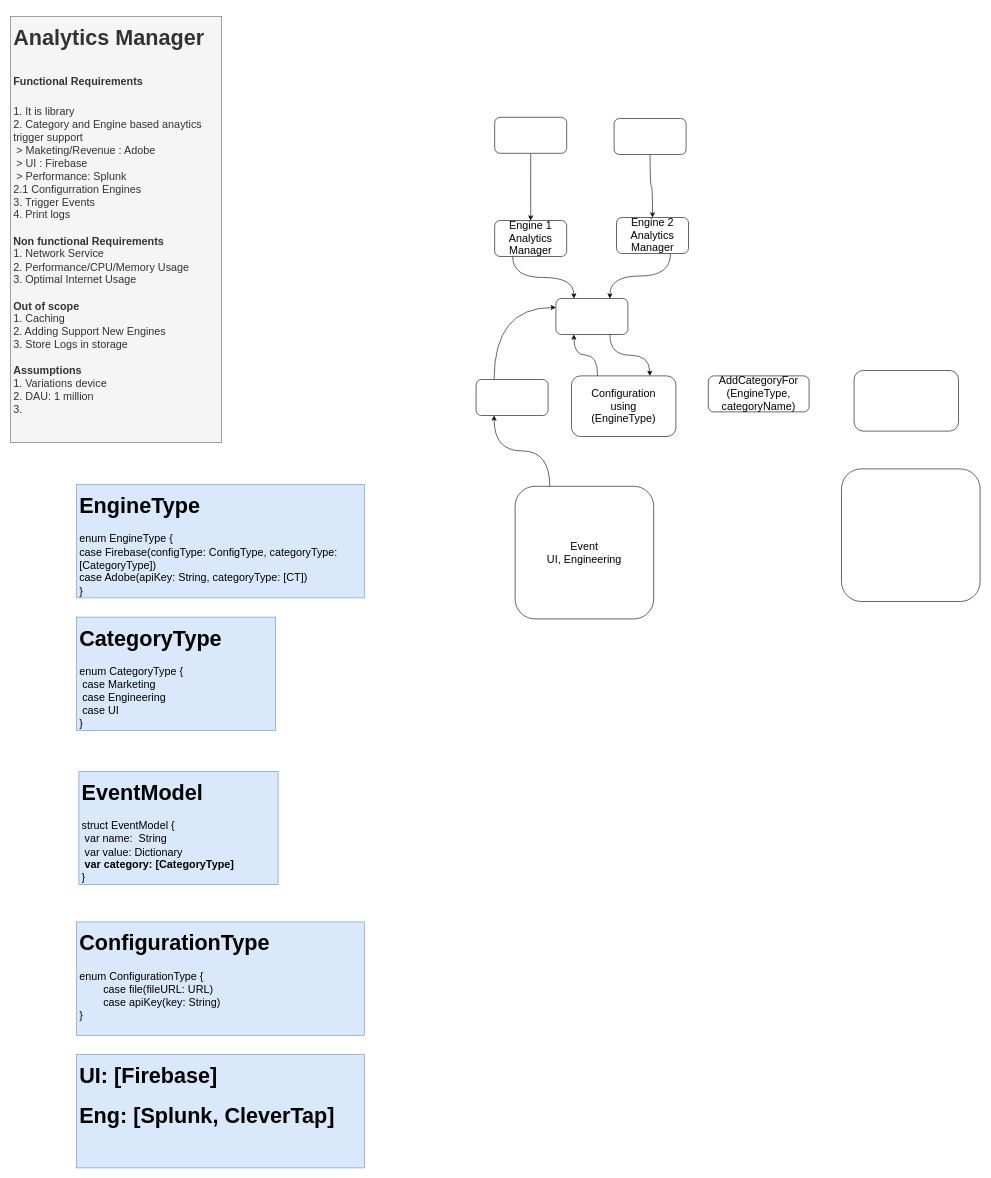
Image size: 991x1178. Some labels were removed from this diagram. Here are the shapes that lost their labels. From the top down, the centre of each, then its label:
(530,135): Engine 1
(650,136): Engine 2
(591,316): Analytics Manager
(512,397): Triggers eventModel
(906,400): Configuration Dict: [:]
(910,535): ["UI": [Firebase, Splunk]]
